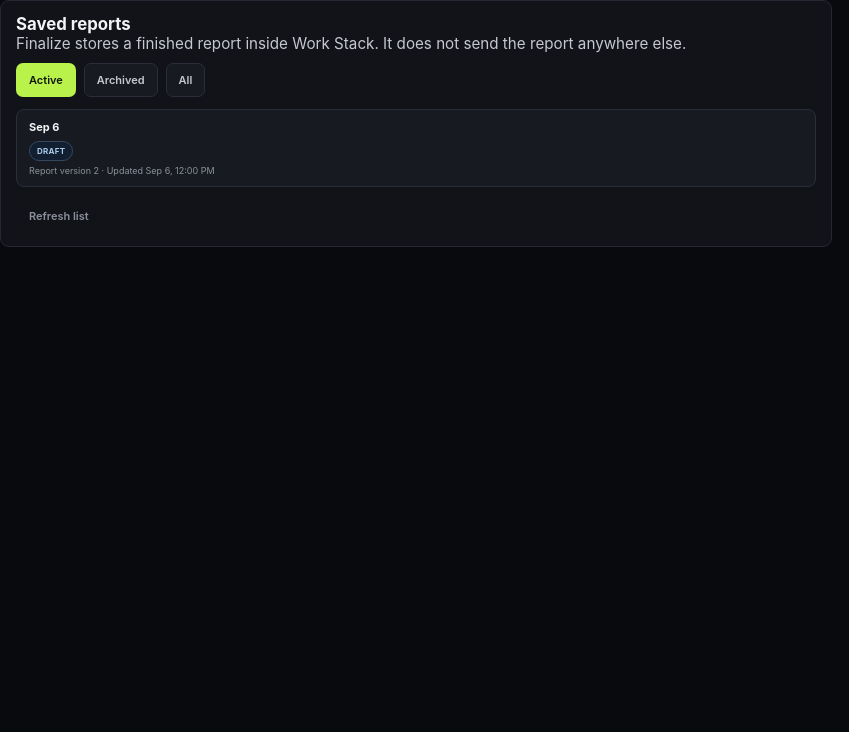
Test: explicit select reads full revision history as inert text, not HTML
Step 1. Click the text "Report version 2 · Updated Sep 6, 12:00 PM" → (122,170), box [29,165,215,176]
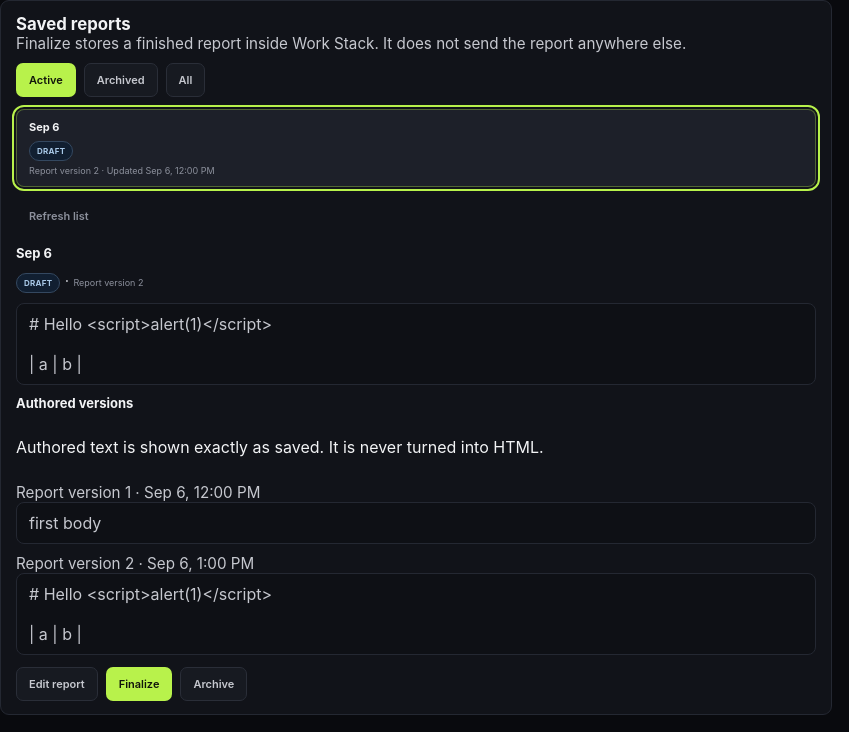
expect the text named "Current authored markdown" shows "<script>alert(1)</script>": met, box [29,314,272,374]
expect the text named "Authored markdown version 1" reads "first body": met, box [29,513,101,533]
expect the text "Report version 2" is shown: met, box [73,277,143,288]
